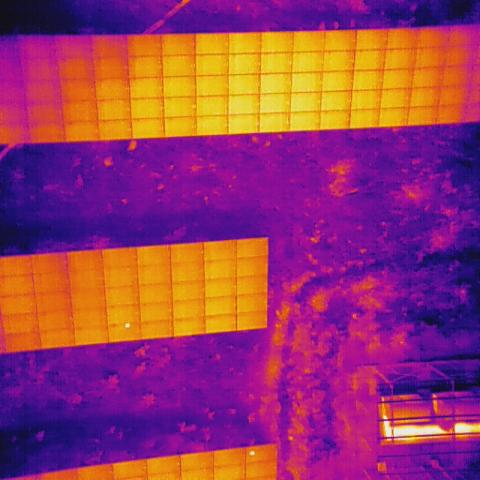fault: (249, 447, 257, 460), (123, 320, 132, 330)
